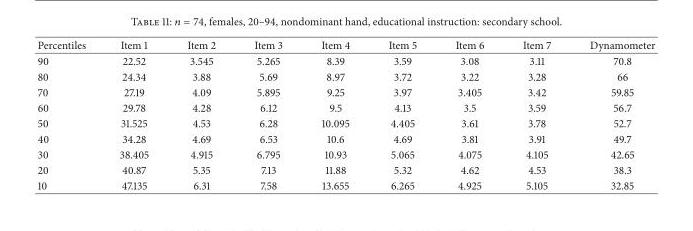table: (36, 36, 654, 192)
table column: (569, 36, 654, 192), (167, 36, 234, 192), (234, 36, 301, 192), (301, 36, 368, 192), (368, 36, 435, 192), (435, 36, 502, 192), (502, 36, 569, 192), (101, 36, 167, 192), (36, 36, 101, 192)
table column header: (36, 36, 654, 52)
table row: (36, 36, 654, 52), (36, 52, 654, 68), (36, 83, 654, 99), (36, 99, 654, 115), (36, 130, 654, 146), (36, 161, 654, 177), (36, 68, 654, 83), (36, 115, 654, 130), (36, 146, 654, 161), (36, 177, 654, 192)
